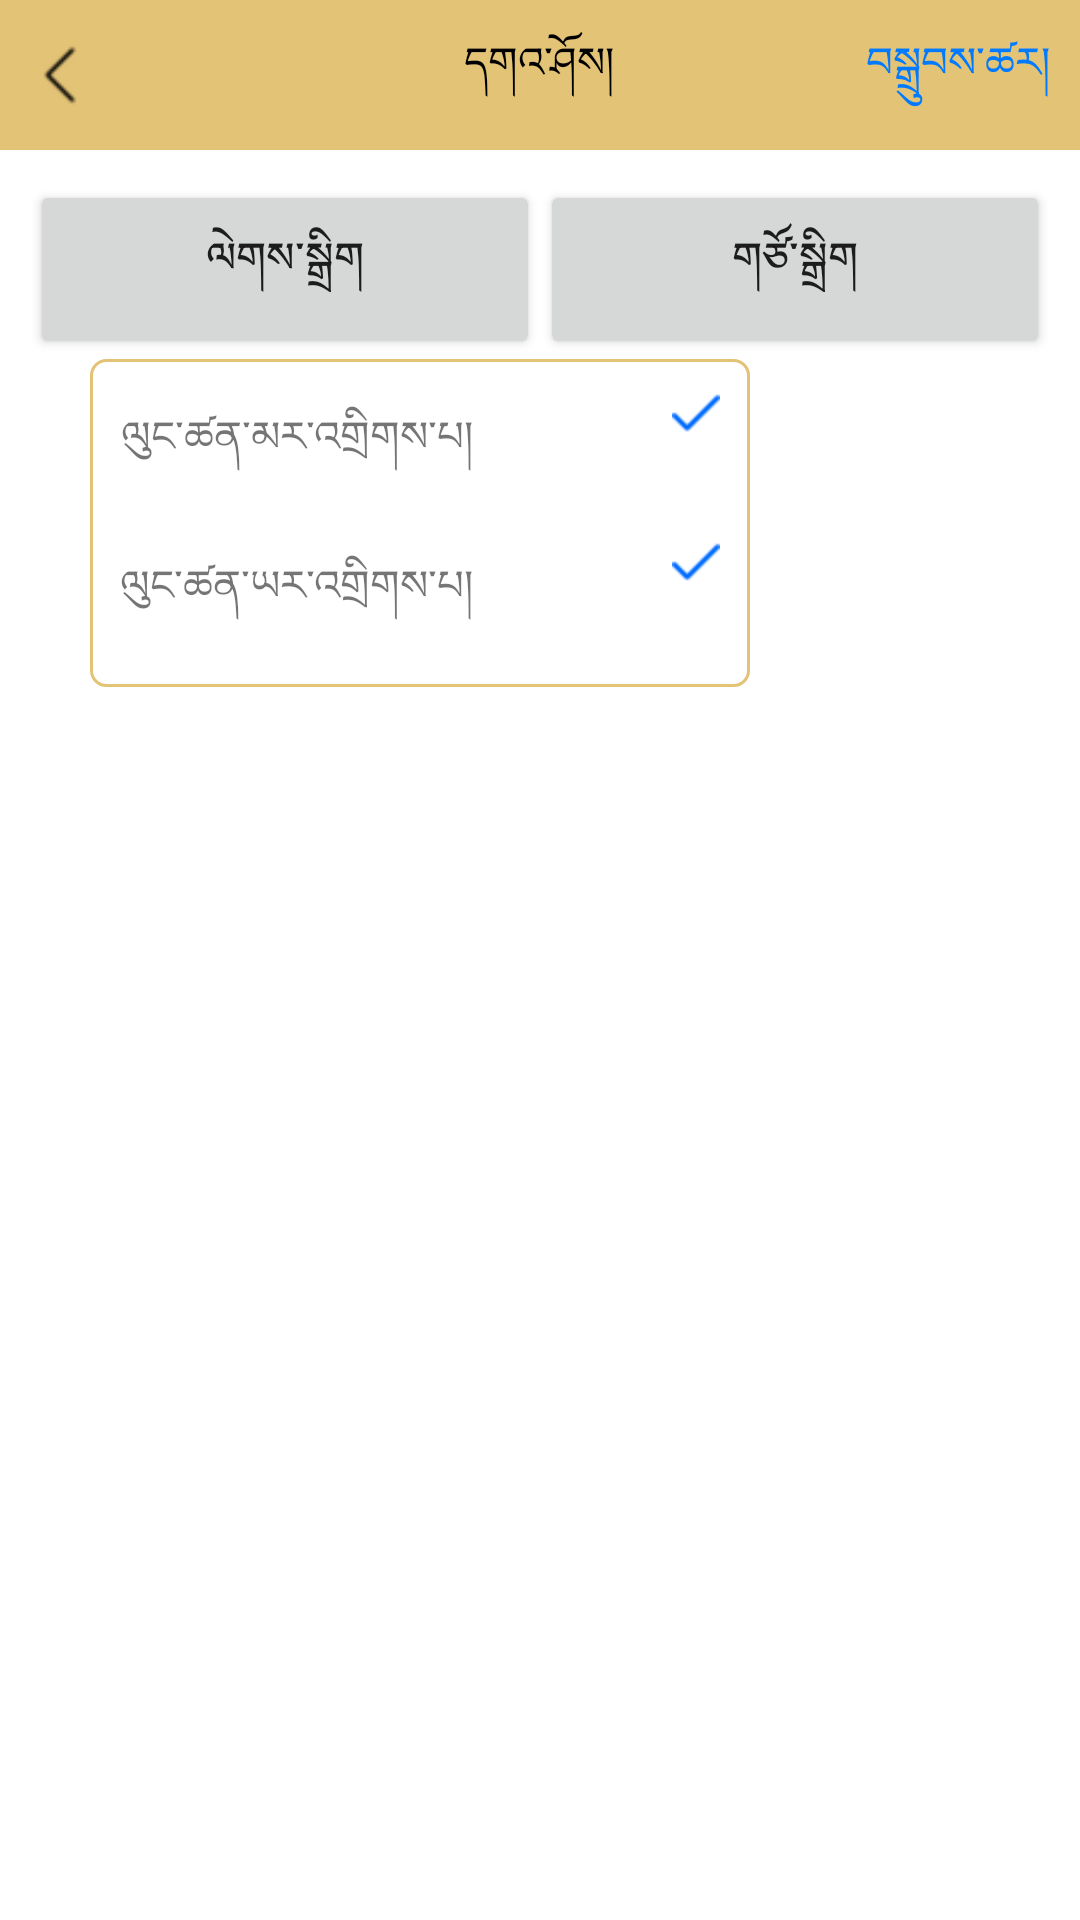

Screen size 1080×1920. Icon name, then its box in pixels as (x1, y1, x2, y2):
checked: (672, 394, 720, 432), (672, 543, 720, 581)
left arrow: (44, 47, 76, 103)
